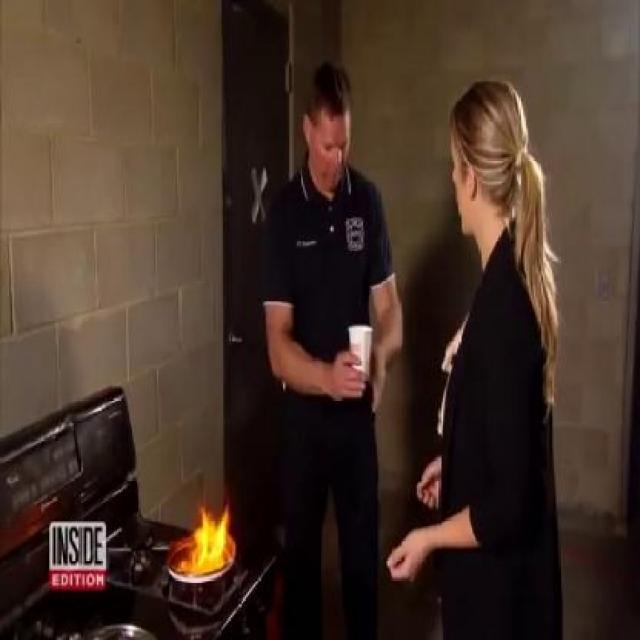fire: (157, 466, 251, 584)
